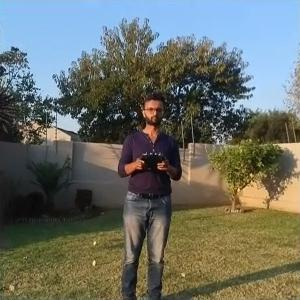follow: (112, 87, 186, 298)
